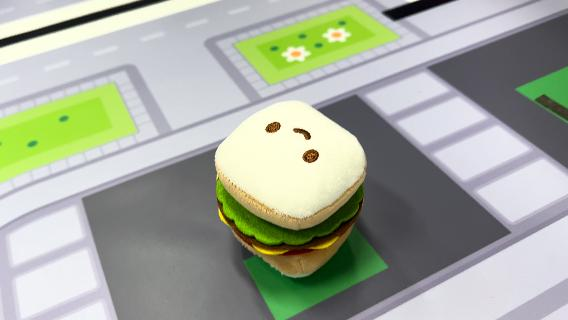sandwich: (213, 98, 370, 278)
